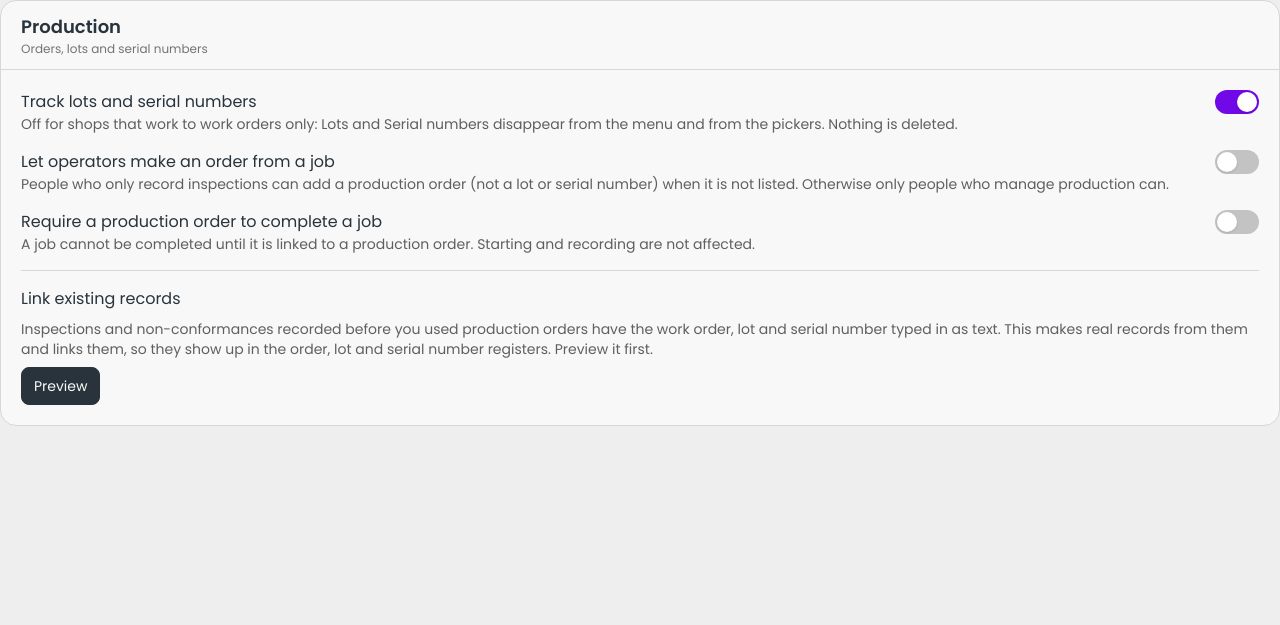
Test: production settings › previews the backfill without changing anything, then links after a confirmation
Expected: the button "Link them" is not shown
Click the button "Preview". click: {"x": 61, "y": 386}
box: [21,367,100,405]
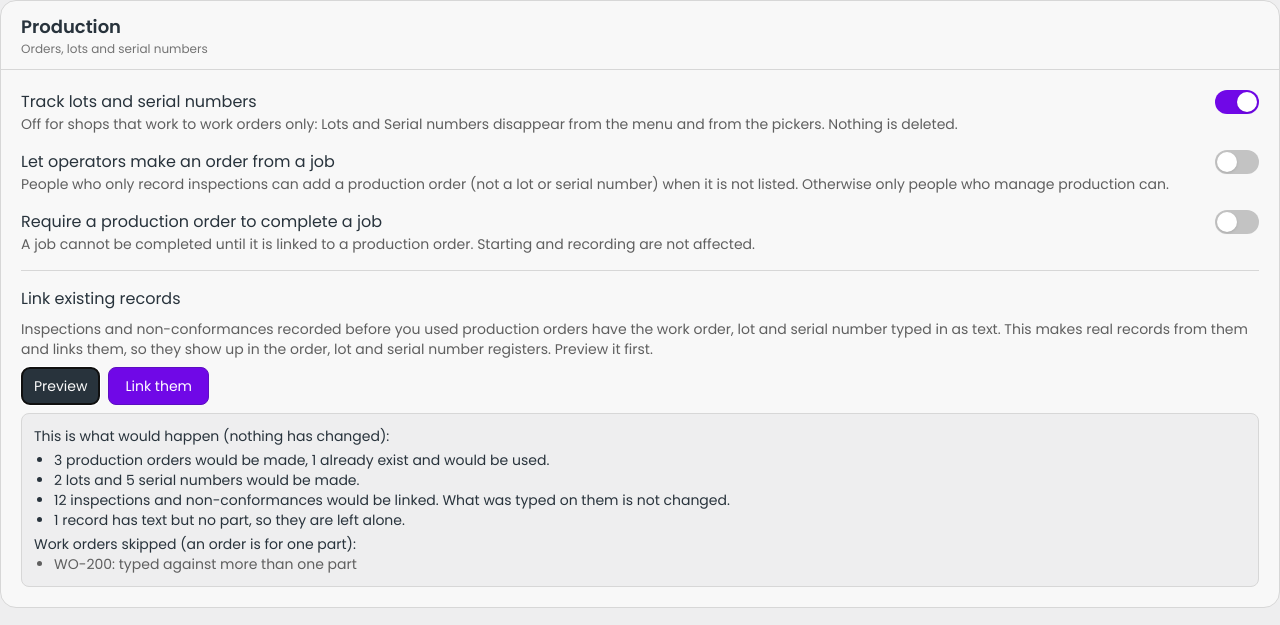
Expected: the text "This is what would happen (nothing has changed):" is shown, [34,426,389,446]
Expected: the list item "3 production orders would be made, 1 already exist and would be used" is shown, [54,450,549,470]
Expected: the list item "2 lots and 5 serial numbers would be made." is shown, [54,470,360,490]
Click the button "Link them". click: {"x": 159, "y": 386}
box: [108,367,209,405]
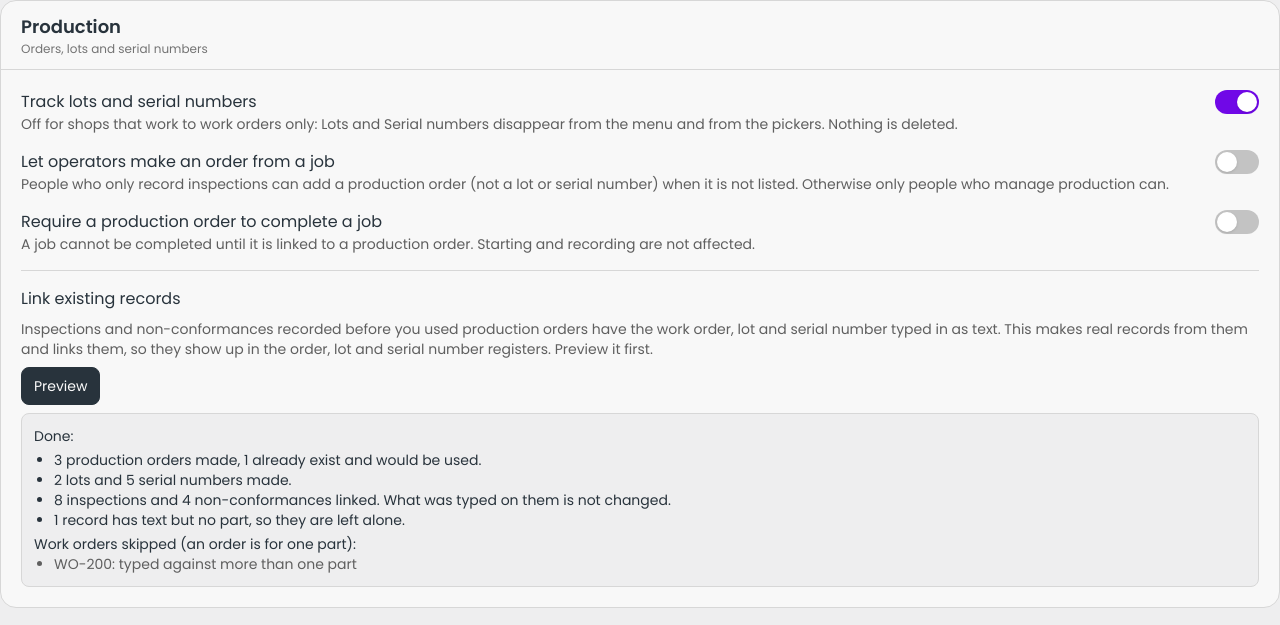
Expected: the text "Done:" is shown, [34,426,74,446]
Expected: the list item "8 inspections and 4 non-conformances linked" is shown, [54,490,671,510]
Expected: the button "Link them" is gone
